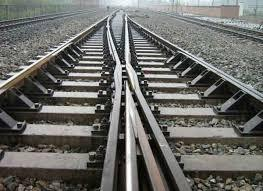track: (123, 15, 263, 191), (0, 8, 122, 191), (160, 12, 263, 44), (0, 7, 103, 27)
